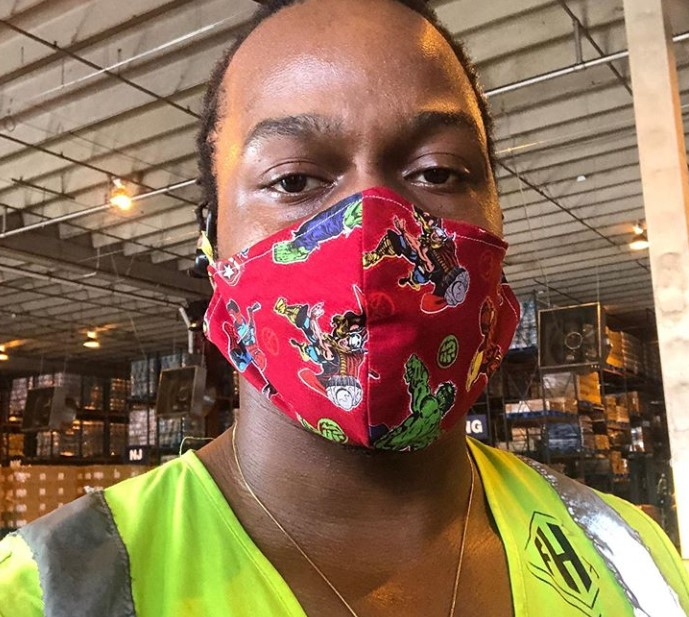face_with_mask: (197, 5, 521, 448)
